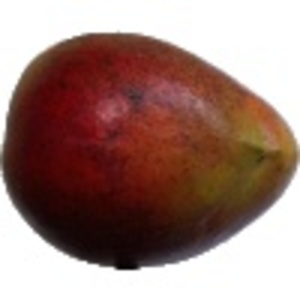manga: (1, 31, 300, 269)
